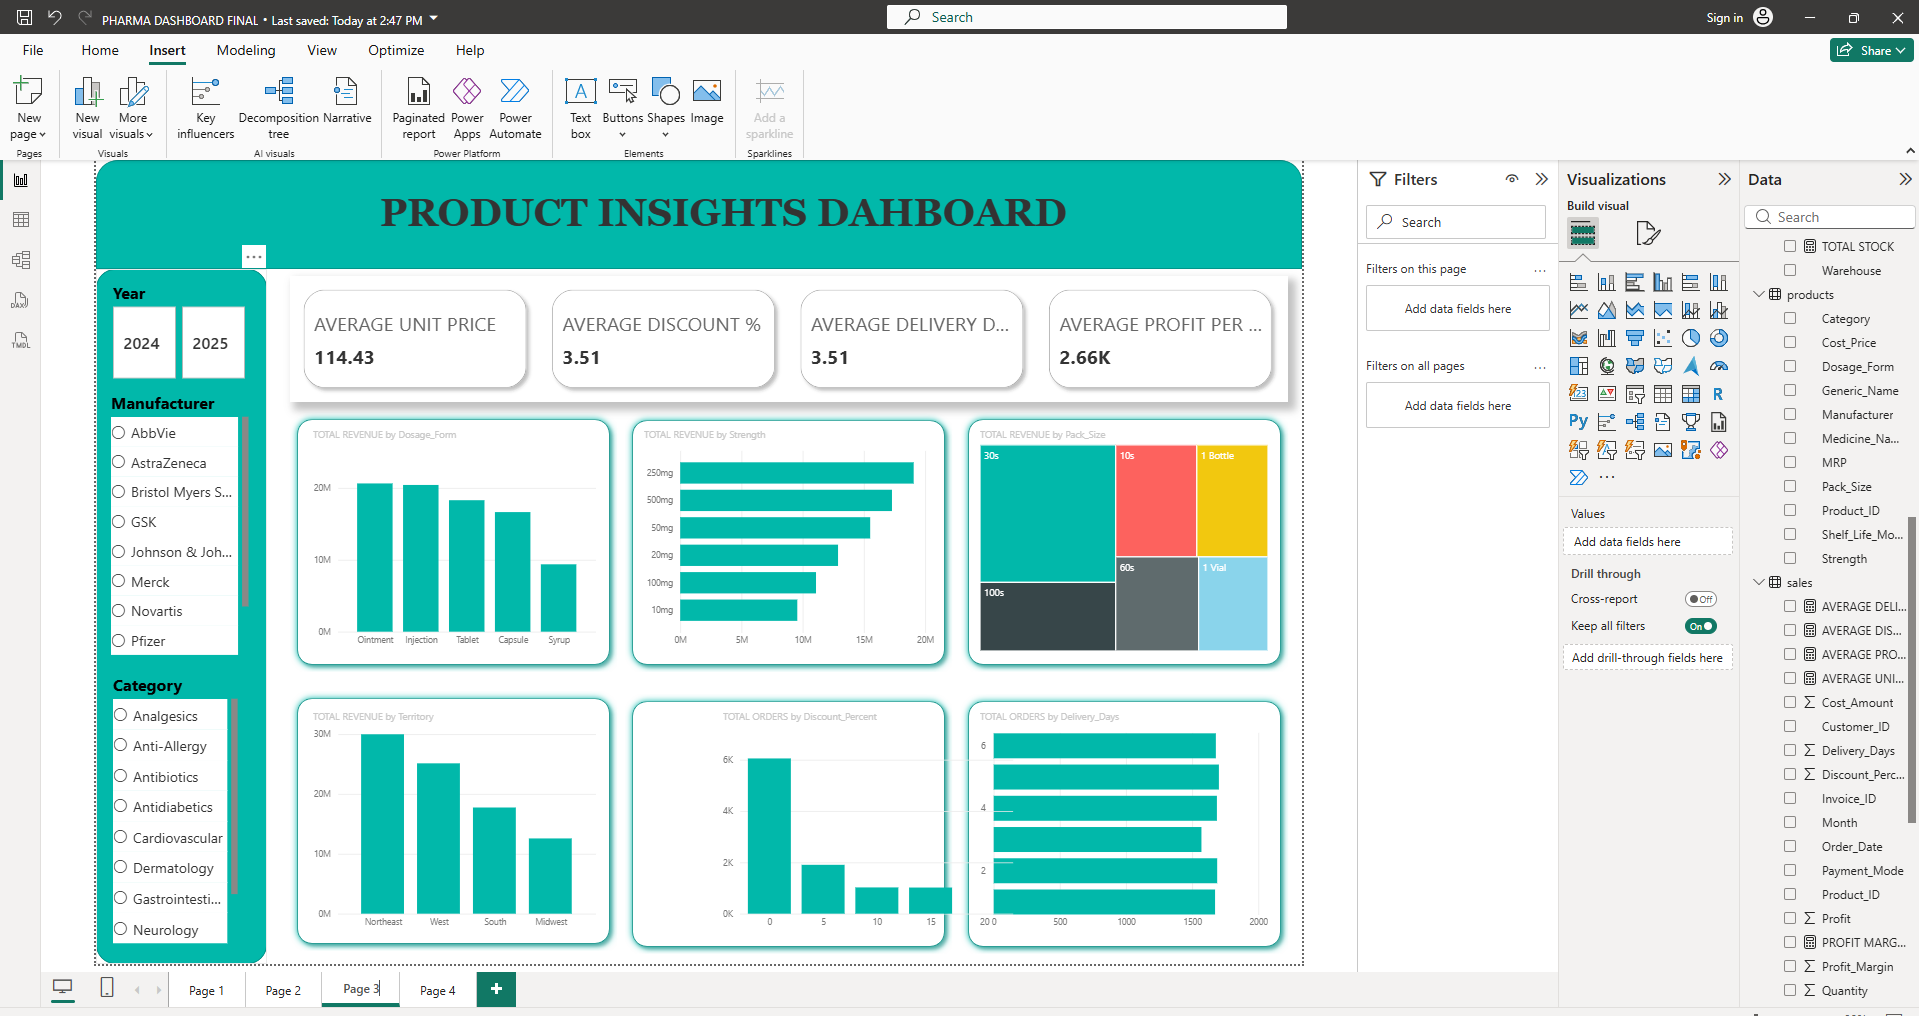

Layout of this report page (visuals, bound fields, positions):
{"tool":"powerbi","page":{"name":"Page 3","canvas":[1500,1000],"ordinal":2},"visuals":[{"type":"shape","box":[0,0,1500,135.6],"z":0},{"type":"shape","box":[0,135.6,212.7,864.4],"z":1000},{"type":"textbox","box":[212.7,33.6,1146.8,89.6],"z":2000},{"type":"cardVisual","fields":{"Data":["sales.AVERAGE UNIT PRICE","sales.AVERAGE DISCOUNT %","sales.AVERAGE DELIVERY DAYS","sales.AVERAGE PROFIT PER ORDER"]},"box":[241.3,144.3,1241.3,156.7],"z":3000},{"type":"shape","box":[1075.9,313.4,406.7,323.4],"z":4000},{"type":"shape","box":[241.3,660.4,406.7,323.4],"z":5000},{"type":"shape","box":[1075.9,664.2,406.7,323.4],"z":6000},{"type":"shape","box":[658,664.2,406.7,323.4],"z":7000},{"type":"shape","box":[658,314.7,406.7,322.1],"z":8000},{"type":"shape","box":[241.3,313.4,406.7,323.4],"z":9000},{"type":"clusteredColumnChart","fields":{"Category":["products.Dosage_Form"],"Y":["sales.TOTAL REVENUE"]},"box":[264.9,333.3,361.9,282.3],"z":10000},{"type":"barChart","fields":{"Y":["sales.TOTAL REVENUE"],"Category":["products.Strength"]},"box":[676.6,333.3,370.6,282.3],"z":11000},{"type":"treemap","fields":{"Group":["products.Pack_Size"],"Values":["sales.TOTAL REVENUE"]},"box":[1094.5,333.3,368.2,282.3],"z":12000},{"type":"columnChart","fields":{"Category":["salesperson.Territory"],"Y":["sales.TOTAL REVENUE"]},"box":[264.9,684.1,361.9,282.3],"z":13000},{"type":"clusteredBarChart","fields":{"Y":["sales.TOTAL ORDERS"],"Category":["sales.Delivery_Days"]},"box":[1094.5,684.1,368.2,282.3],"z":14000},{"type":"clusteredColumnChart","fields":{"Y":["sales.TOTAL ORDERS"],"Category":["sales.Discount_Percent"]},"box":[774.9,684.1,370.6,282.3],"z":15000},{"type":"advancedSlicerVisual","fields":{"Values":["dates.Year"]},"box":[16.2,150.5,175.4,126.9],"z":16000},{"type":"listSlicer","fields":{"Values":["products.Category"]},"box":[16.2,638.1,165.4,345.8],"z":17000},{"type":"listSlicer","fields":{"Values":["products.Manufacturer"]},"box":[13.7,287.3,181.6,337.1],"z":18000}]}

Visuals, with their boxes on the page's 1500x1000 design canvas (x1, y1, x2, y2). These are canvas units, not pixel positions in the 1919x1016 screenshot, which may show the page scaled, cropped or inside an application window:
shape: [0,0,1500,136]
shape: [0,136,213,1000]
textbox: [213,34,1360,123]
cardVisual - sales.AVERAGE UNIT PRICE x sales.AVERAGE DISCOUNT %: [241,144,1483,301]
shape: [1076,313,1483,637]
shape: [241,660,648,984]
shape: [1076,664,1483,988]
shape: [658,664,1065,988]
shape: [658,315,1065,637]
shape: [241,313,648,637]
clusteredColumnChart - products.Dosage_Form x sales.TOTAL REVENUE: [265,333,627,616]
barChart - sales.TOTAL REVENUE x products.Strength: [677,333,1047,616]
treemap - products.Pack_Size x sales.TOTAL REVENUE: [1094,333,1463,616]
columnChart - salesperson.Territory x sales.TOTAL REVENUE: [265,684,627,966]
clusteredBarChart - sales.TOTAL ORDERS x sales.Delivery_Days: [1094,684,1463,966]
clusteredColumnChart - sales.TOTAL ORDERS x sales.Discount_Percent: [775,684,1146,966]
advancedSlicerVisual - dates.Year: [16,150,192,277]
listSlicer - products.Category: [16,638,182,984]
listSlicer - products.Manufacturer: [14,287,195,624]
